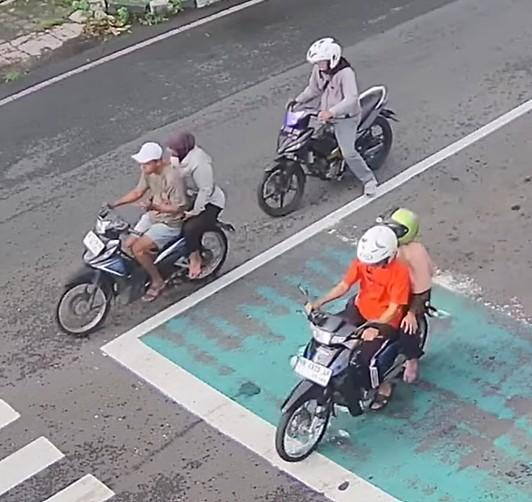Helmet: (357, 225, 397, 264), (384, 208, 419, 244), (306, 37, 341, 69)
Number Plate: (294, 357, 331, 386), (83, 231, 105, 256)
